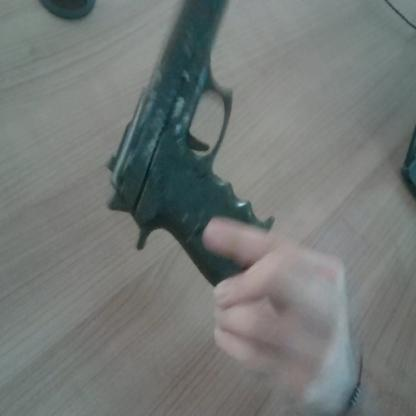handgun: (94, 0, 284, 309)
